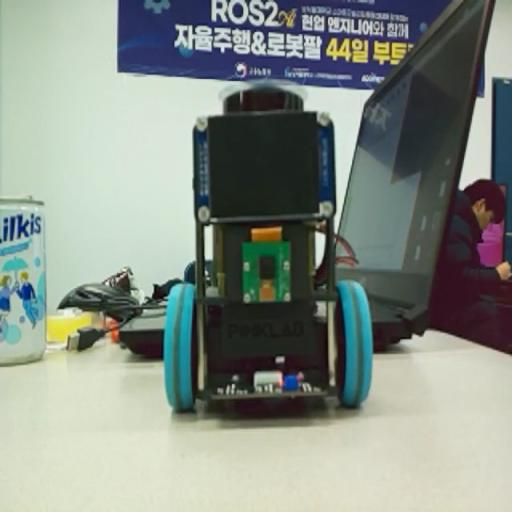pinky_63: (159, 80, 375, 420)
